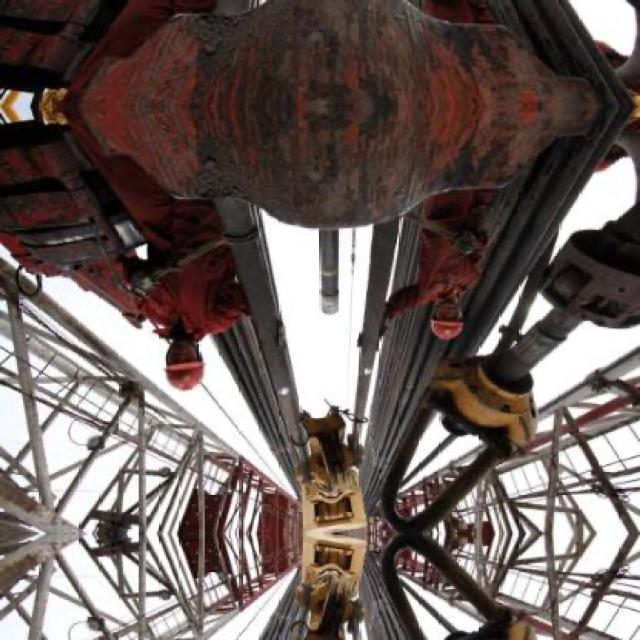con casco: (134, 300, 230, 412), (409, 267, 492, 360)
